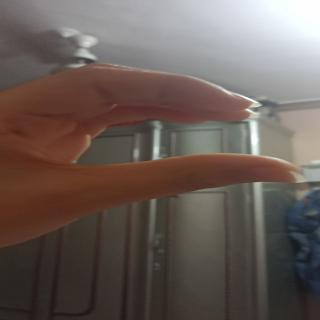JEEM: (0, 56, 320, 252)
